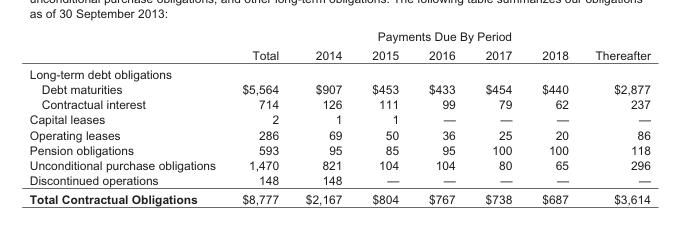table: (28, 28, 649, 205)
table column: (28, 28, 228, 205), (581, 28, 649, 205), (291, 28, 356, 205), (228, 28, 291, 205), (356, 28, 413, 205), (469, 28, 526, 205), (413, 28, 469, 205), (526, 28, 581, 205)
table column header: (28, 28, 649, 64)
table projected row header: (28, 64, 649, 81)
table row: (28, 45, 649, 64), (28, 28, 649, 45), (28, 64, 649, 81), (28, 172, 649, 189), (28, 156, 649, 172), (28, 189, 649, 205), (28, 81, 649, 96), (28, 96, 649, 111), (28, 111, 649, 126), (28, 126, 649, 141), (28, 141, 649, 156)
table spanning cell: (228, 28, 649, 45)
